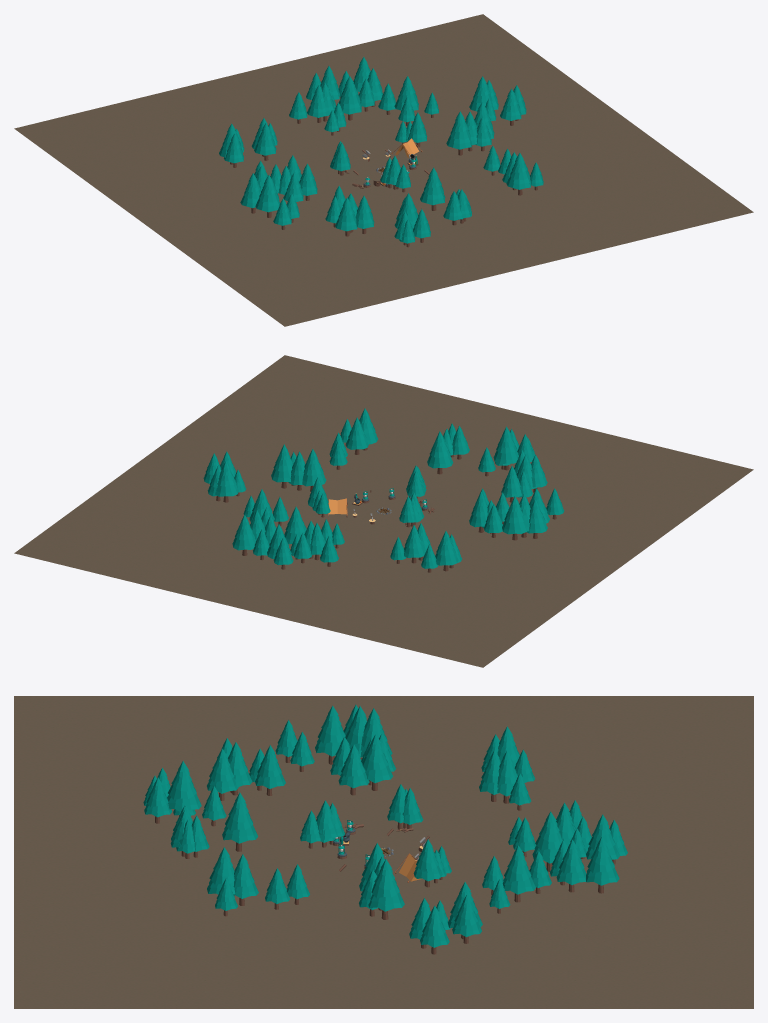
The model's file is campfire_scene.glb.
The picture shows the model from 3 angles, top to bottom: view 1: azimuth 30°, elevation 25°; view 2: azimuth 150°, elevation 25°; view 3: azimuth 270°, elevation 25°; orthographic projection. The views are drawn at different scales.
Parts seen in each view (by area): view 1: ground, pine_12_0_1, pine_0_-15_1, pine_-17_-5_1, pine_0_14_4, pine_11_-10_0; view 2: ground, pine_-14_-1_0, pine_-5_-17_3, pine_0_-15_1, pine_12_0_2, pine_5_17_5, pine_17_5_3, pine_12_0_1, pine_-11_9_2; view 3: ground, pine_12_0_2, pine_0_-15_1, pine_-5_-17_3, pine_5_17_5, pine_10_10_3, pine_-17_-5_1, pine_-14_-1_2, pine_0_14_4, pine_5_17_1, pine_-10_-12_5, pine_-14_-1_5 (+20 smaller).
Boxes of the visible parts, x1,y1,x2,y2 form: ground: (14, 14, 753, 326); pine_12_0_1: (446, 111, 471, 155); pine_0_-15_1: (420, 167, 445, 210); pine_-17_-5_1: (255, 175, 280, 217); pine_0_14_4: (338, 76, 361, 120); pine_11_-10_0: (506, 153, 531, 195); ground: (14, 355, 753, 667); pine_-14_-1_0: (502, 496, 526, 540); pine_-5_-17_3: (493, 426, 518, 470); pine_0_-15_1: (427, 431, 453, 474); pine_12_0_2: (271, 444, 293, 488); pine_5_17_5: (232, 514, 255, 555); pine_17_5_3: (215, 461, 238, 502); pine_12_0_1: (302, 449, 326, 491); pine_-11_9_2: (435, 531, 458, 571); ground: (14, 696, 753, 1008); pine_12_0_2: (368, 859, 404, 919); pine_0_-15_1: (222, 792, 257, 851); pine_-5_-17_3: (167, 761, 201, 816); pine_5_17_5: (586, 836, 619, 893); pine_10_10_3: (502, 845, 535, 902); pine_-17_-5_1: (315, 705, 345, 764); pine_-14_-1_2: (362, 734, 393, 790); pine_0_14_4: (532, 811, 562, 871); pine_5_17_1: (556, 839, 586, 892); pine_-10_-12_5: (207, 748, 238, 800); pine_-14_-1_5: (338, 744, 369, 795).
Size of the model in its own units: 60 by 5.51 by 60.
21 materials, 1 textured.
